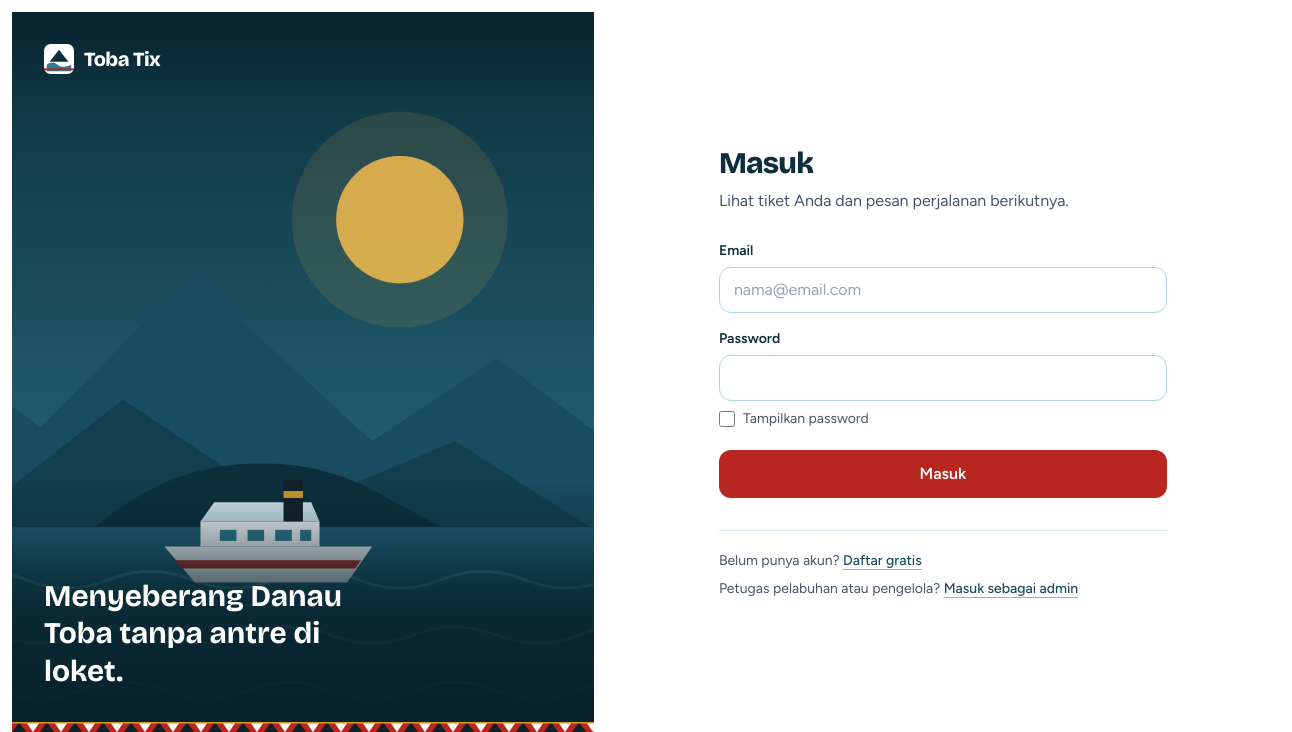
Test: LoginPage › error jaringan memakai pesan bawaan
Type "budi@test.com" into the field with id "username" at (943, 290), box [719,267,1167,313]
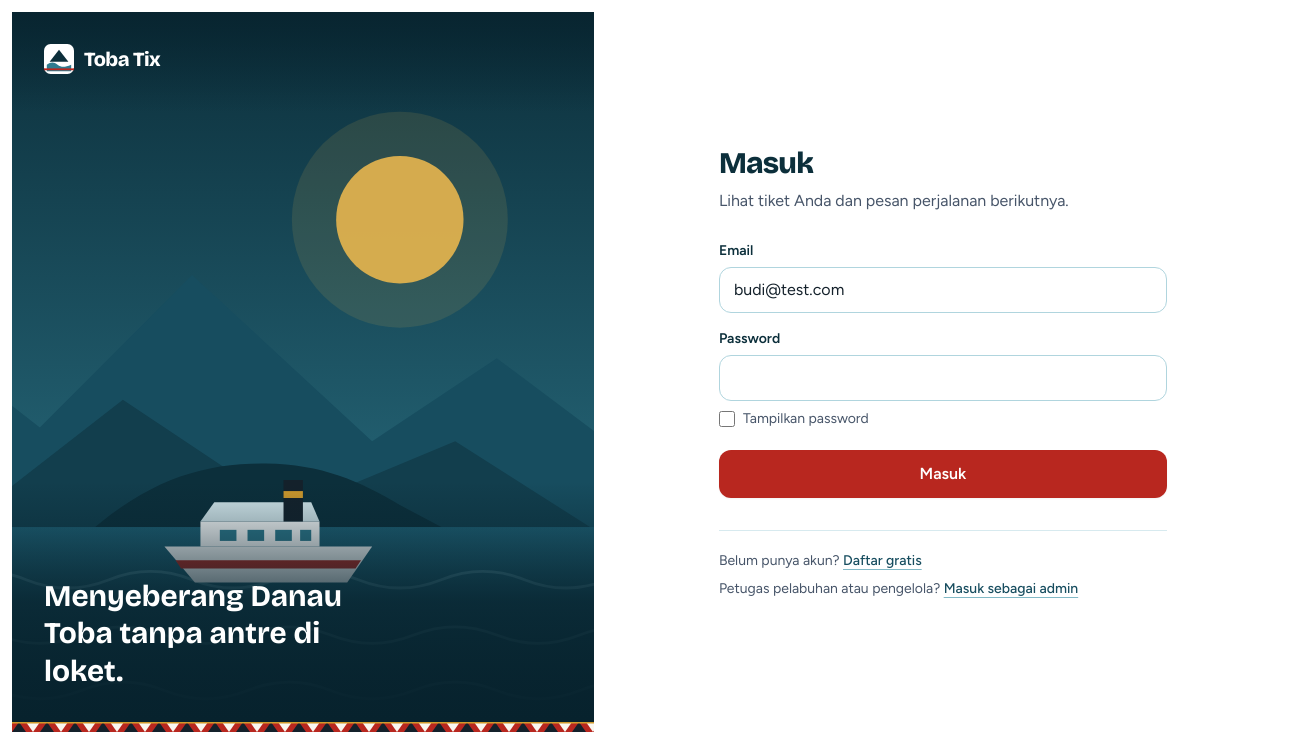
Type "password123" into the password field labelled "Password" at (943, 378), box [719,355,1167,401]
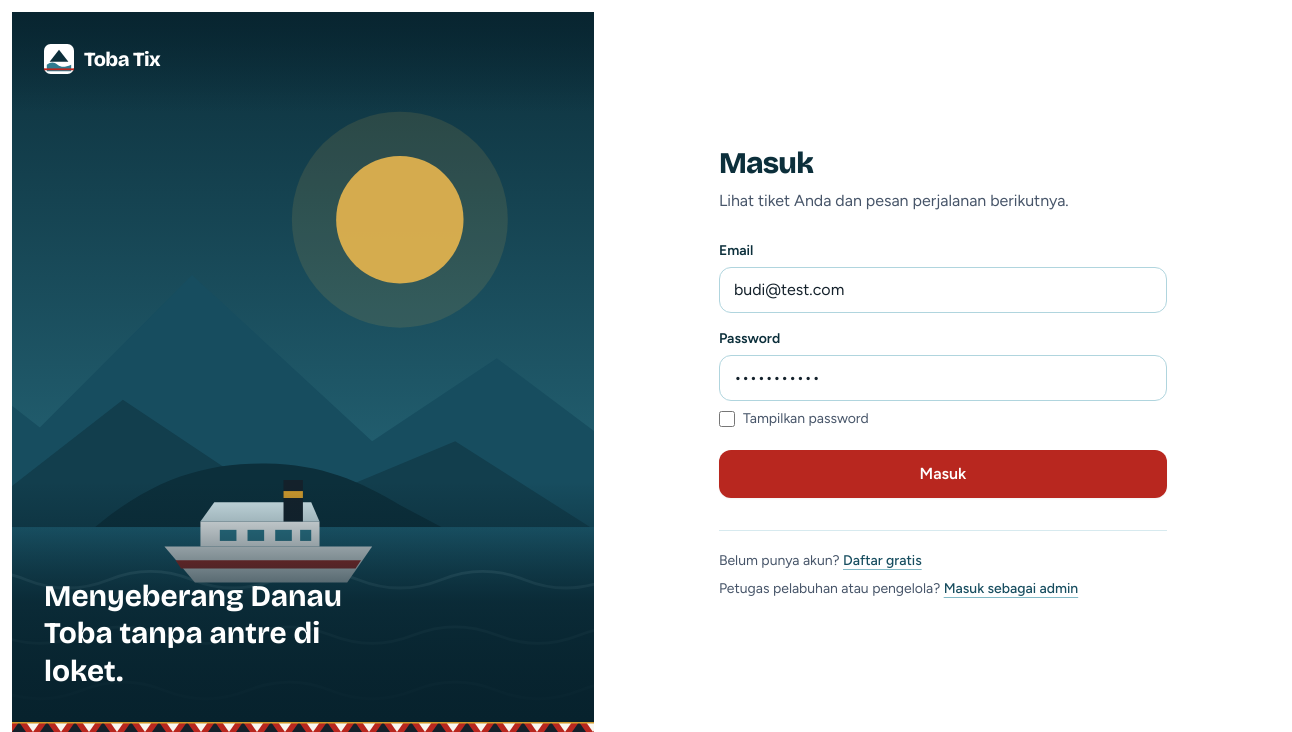
Submit the form, box [719,241,1167,498]
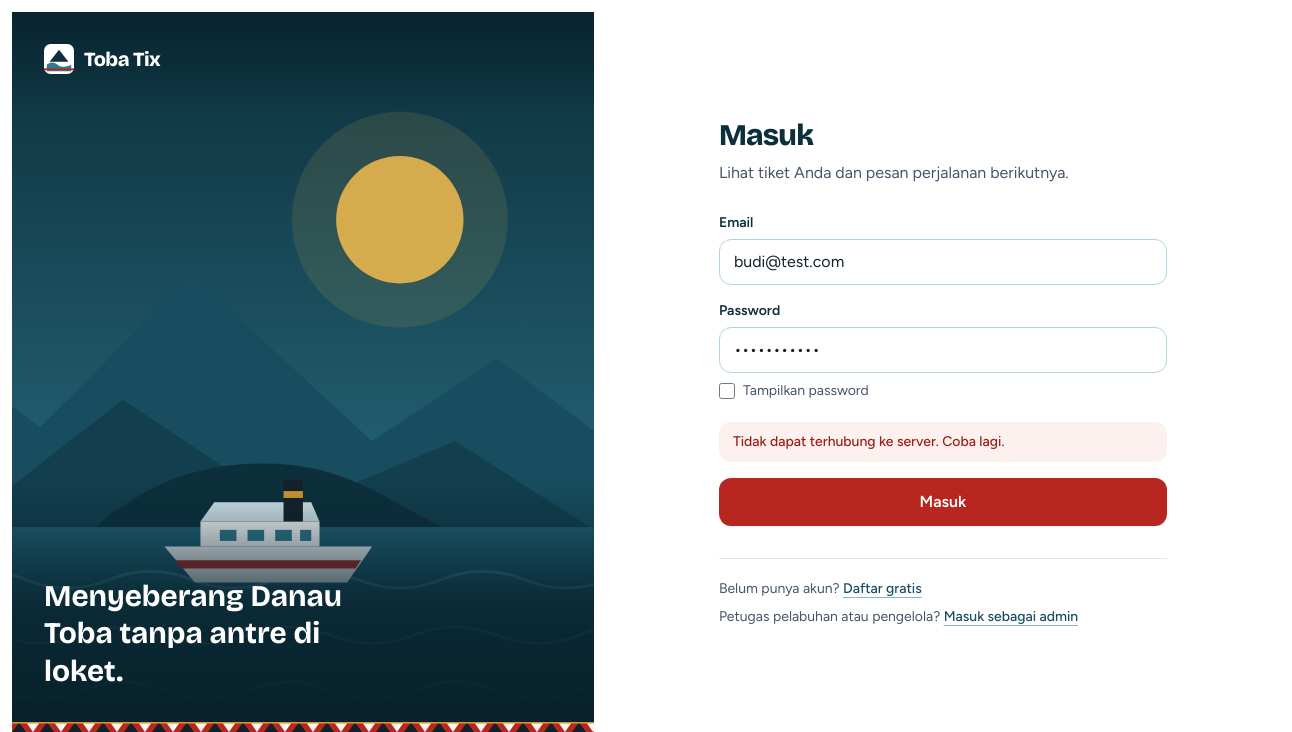
Expected: the text "Tidak dapat terhubung ke server" is shown, [733,433,1004,450]
